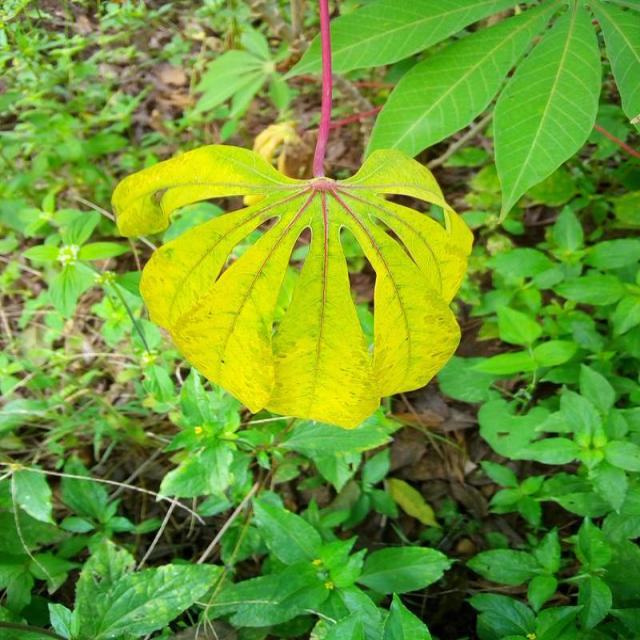cassava leaf: (110, 2, 476, 430), (492, 0, 602, 224)
